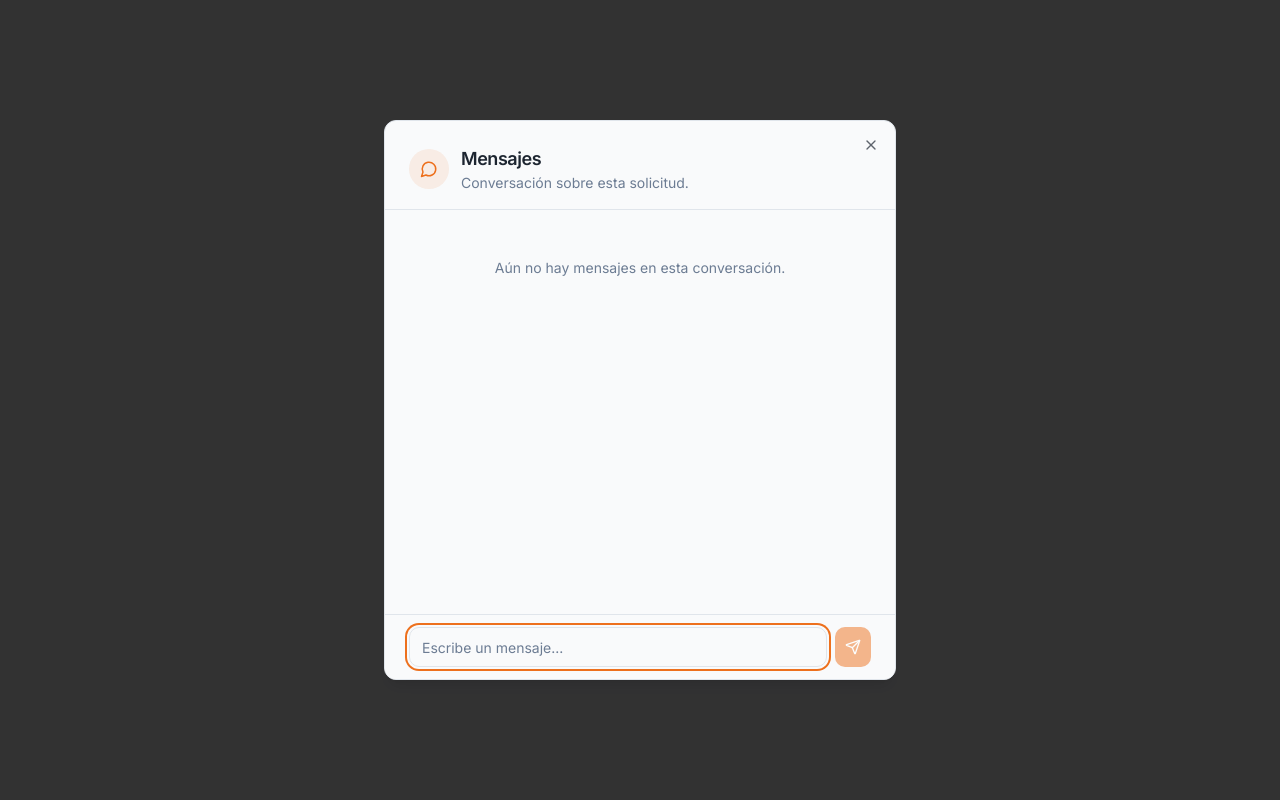
Test: ChatSolicitudDialog › deja habilitado el input de envío para el admin (no se bloquea por rol)
Type "Hola, soy admin" into the field with placeholder "Escribe un mensaje...".
click(618, 647); type("Hola, soy admin")  # box [409, 627, 827, 667]
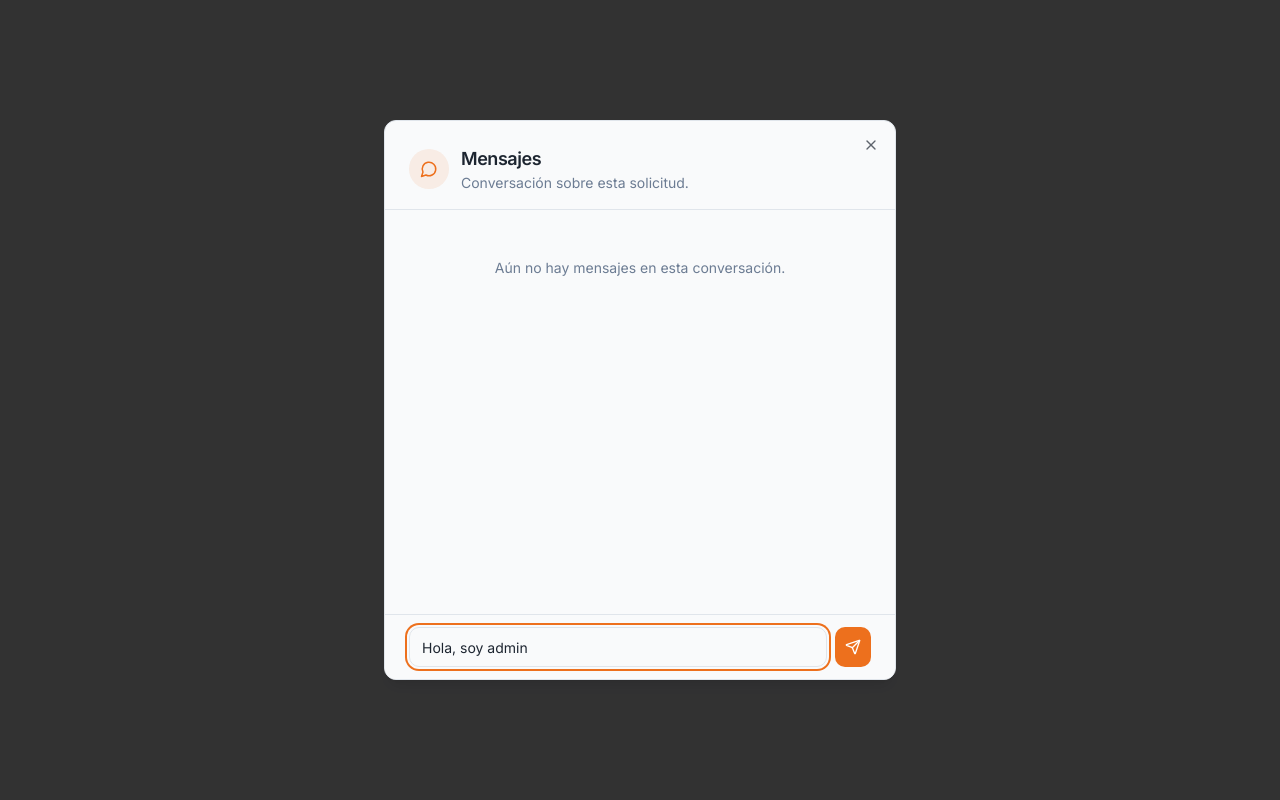
Expected: the 2nd button is enabled, [835, 627, 871, 667]
